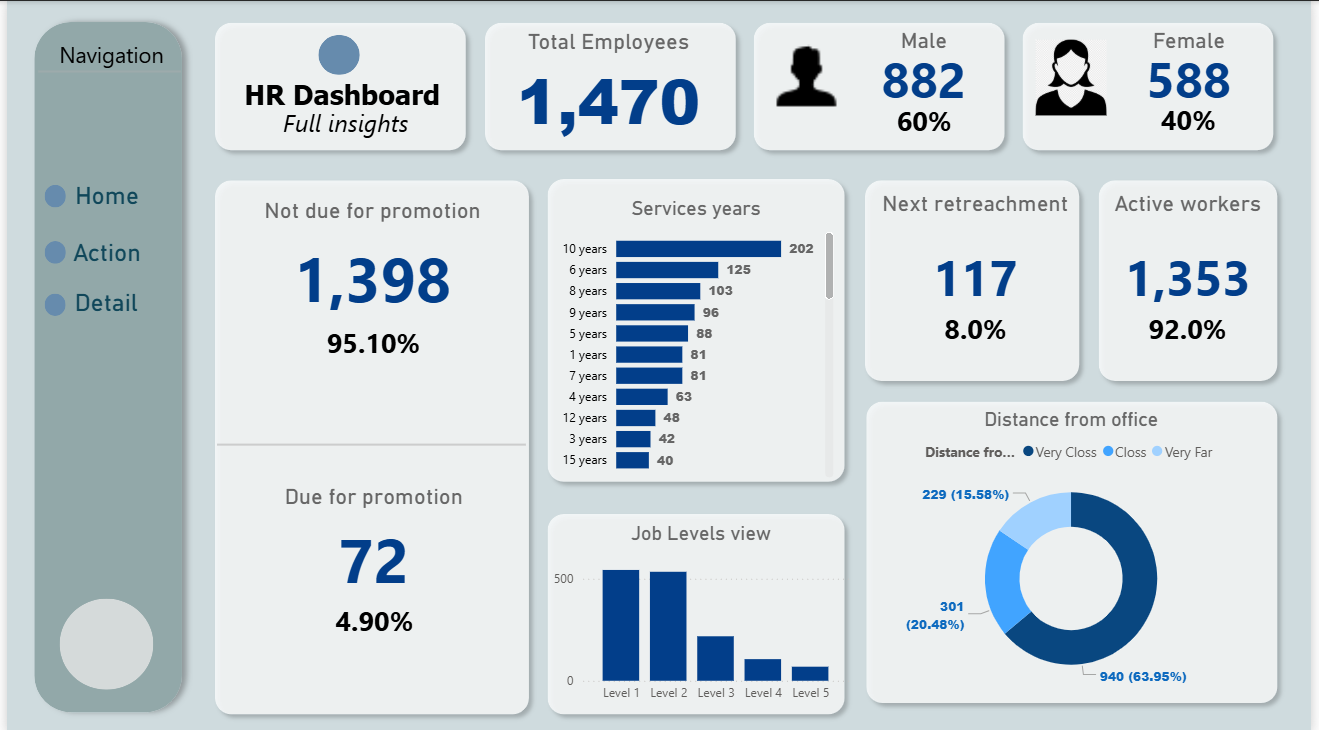

The dashboard page shown, as its layout file describes it:
{"tool":"powerbi","page":{"name":"Home","canvas":[1280,720],"ordinal":0},"visuals":[{"type":"shape","box":[16.5,9.6,166.5,699.2],"z":0},{"type":"shape","box":[195.4,12.4,264.3,143.1],"z":1000},{"type":"shape","box":[459.7,12.4,264.3,143.1],"z":2000},{"type":"shape","box":[724,12.4,264.3,143.1],"z":3000},{"type":"shape","box":[988.2,12.4,264.3,143.1],"z":4000},{"type":"shape","box":[195.4,166.5,326.2,542.3],"z":5000},{"type":"shape","box":[521.6,166.2,309.7,315.2],"z":6000},{"type":"shape","box":[521.6,494.1,309.7,214.7],"z":7000},{"type":"shape","box":[834.8,384.2,421.6,314.1],"z":8000},{"type":"shape","box":[833.6,166.7,228.3,215],"z":9000},{"type":"shape","box":[1063.1,166.7,193.3,215],"z":10000},{"type":"textbox","box":[209.7,71.2,238.7,51.4],"z":11000},{"type":"textbox","box":[36.8,33.1,131.3,51.5],"z":12000},{"type":"textbox","box":[209.7,97.6,251.9,55.4],"z":13000},{"type":"shape","box":[305.9,33,40.9,39.6],"z":14000},{"type":"card","title":"Total Employees","fields":{"Values":["All Measures.Total Emp"]},"box":[468,27.5,246.4,112.9],"z":15000},{"type":"card","title":"Male","fields":{"Values":["All Measures.Male"]},"box":[814.8,26.2,170.7,75.7],"z":16000},{"type":"card","fields":{"Values":["All Measures.Male %"]},"box":[834.1,90.8,132.1,55.1],"z":17000},{"type":"card","title":"Female","fields":{"Values":["All Measures.Female"]},"box":[1068.7,26.2,183.1,75.7],"z":18000},{"type":"card","fields":{"Values":["All Measures.Female %"]},"box":[1083.9,90.8,152.8,53.7],"z":19000},{"type":"image","box":[736.3,26.2,95,90.8],"z":20000},{"type":"actionButton","title":"Home","box":[27.8,176.4,140.1,30.2],"z":21000},{"type":"image","box":[1004.7,33,79.8,84],"z":22000},{"type":"actionButton","title":"Action","box":[27.7,233.4,139.8,56.7],"z":23000},{"type":"card","title":"Active workers","fields":{"Values":["All Measures.On service"]},"box":[1058.3,186,203,142.6],"z":24000},{"type":"actionButton","title":"Detail","box":[28.2,282.2,138.7,57.7],"z":25000},{"type":"card","fields":{"Values":["All Measures.% Active workers"]},"box":[1082.4,296,153.4,53.2],"z":26000},{"type":"card","title":"Next retreachment","fields":{"Values":["All Measures.Due for retirment"]},"box":[843.2,186,215,142.6],"z":27000},{"type":"card","fields":{"Values":["All Measures.%Due for retirment"]},"box":[865,296,171.5,53.2],"z":28000},{"type":"columnChart","title":"Job Levels view","fields":{"Category":["HR Analytics Data.Job Level"],"Y":["All Measures.Total Emp"]},"box":[531.3,512,300,185.8],"z":29000},{"type":"barChart","title":"Services years","fields":{"Category":["HR Analytics Data.Total working Years"],"Y":["All Measures.Total Emp"]},"box":[536.4,192.1,280.3,280.3],"z":30000},{"type":"donutChart","title":"Distance from office","fields":{"Category":["HR Analytics Data.Distance from office"],"Y":["All Measures.Total Emp"]},"box":[840.8,399.9,408.3,282.7],"z":31000},{"type":"card","title":"Not due for promotion","fields":{"Values":["All Measures.Not Due"]},"box":[207.8,192.1,303.2,130.5],"z":32000},{"type":"card","title":"Due for promotion","fields":{"Values":["All Measures.Due for promotion"]},"box":[209,473.8,303.2,119.6],"z":33000},{"type":"shape","box":[206.6,427.7,303.2,14.5],"z":34000},{"type":"card","fields":{"Values":["All Measures.% Not due for promotion"]},"box":[283.5,309.7,152.8,53.7],"z":35000},{"type":"card","fields":{"Values":["All Measures.% Due for promotion"]},"box":[285.1,582.5,152.2,53.2],"z":36000},{"type":"shape","box":[36.9,180.7,21.1,22.4],"z":37000},{"type":"shape","box":[36.9,236,21.1,22.4],"z":38000},{"type":"shape","box":[36.8,287.1,20.9,22.1],"z":39000},{"type":"shape","box":[51.4,586.8,92.3,89.7],"z":40000},{"type":"shape","box":[30.2,61.6,140.1,15.7],"z":41000}]}

Visuals, with their boxes in screenshot pixels (x1, y1, x2, y2), scaled from the page's 1280x720 canvas onto the 1319x730 screenshot:
shape: x1=17, y1=10, x2=189, y2=719
shape: x1=201, y1=13, x2=474, y2=158
shape: x1=474, y1=13, x2=746, y2=158
shape: x1=746, y1=13, x2=1018, y2=158
shape: x1=1018, y1=13, x2=1291, y2=158
shape: x1=201, y1=169, x2=537, y2=719
shape: x1=537, y1=169, x2=857, y2=488
shape: x1=537, y1=501, x2=857, y2=719
shape: x1=860, y1=390, x2=1295, y2=708
shape: x1=859, y1=169, x2=1094, y2=387
shape: x1=1095, y1=169, x2=1295, y2=387
textbox: x1=216, y1=72, x2=462, y2=124
textbox: x1=38, y1=34, x2=173, y2=86
textbox: x1=216, y1=99, x2=476, y2=155
shape: x1=315, y1=33, x2=357, y2=74
"Total Employees" card: x1=482, y1=28, x2=736, y2=142
"Male" card: x1=840, y1=27, x2=1016, y2=103
card - All Measures.Male %: x1=860, y1=92, x2=996, y2=148
"Female" card: x1=1101, y1=27, x2=1290, y2=103
card - All Measures.Female %: x1=1117, y1=92, x2=1274, y2=147
image: x1=759, y1=27, x2=857, y2=119
"Home" actionButton: x1=29, y1=179, x2=173, y2=209
image: x1=1035, y1=33, x2=1118, y2=119
"Action" actionButton: x1=29, y1=237, x2=173, y2=294
"Active workers" card: x1=1091, y1=189, x2=1300, y2=333
"Detail" actionButton: x1=29, y1=286, x2=172, y2=345
card - All Measures.% Active workers: x1=1115, y1=300, x2=1273, y2=354
"Next retreachment" card: x1=869, y1=189, x2=1090, y2=333
card - All Measures.%Due for retirment: x1=891, y1=300, x2=1068, y2=354
"Job Levels view" columnChart: x1=547, y1=519, x2=857, y2=707
"Services years" barChart: x1=553, y1=195, x2=842, y2=479
"Distance from office" donutChart: x1=866, y1=405, x2=1287, y2=692
"Not due for promotion" card: x1=214, y1=195, x2=527, y2=327
"Due for promotion" card: x1=215, y1=480, x2=528, y2=602
shape: x1=213, y1=434, x2=525, y2=448
card - All Measures.% Not due for promotion: x1=292, y1=314, x2=450, y2=368
card - All Measures.% Due for promotion: x1=294, y1=591, x2=451, y2=645
shape: x1=38, y1=183, x2=60, y2=206
shape: x1=38, y1=239, x2=60, y2=262
shape: x1=38, y1=291, x2=59, y2=313
shape: x1=53, y1=595, x2=148, y2=686
shape: x1=31, y1=62, x2=175, y2=78
